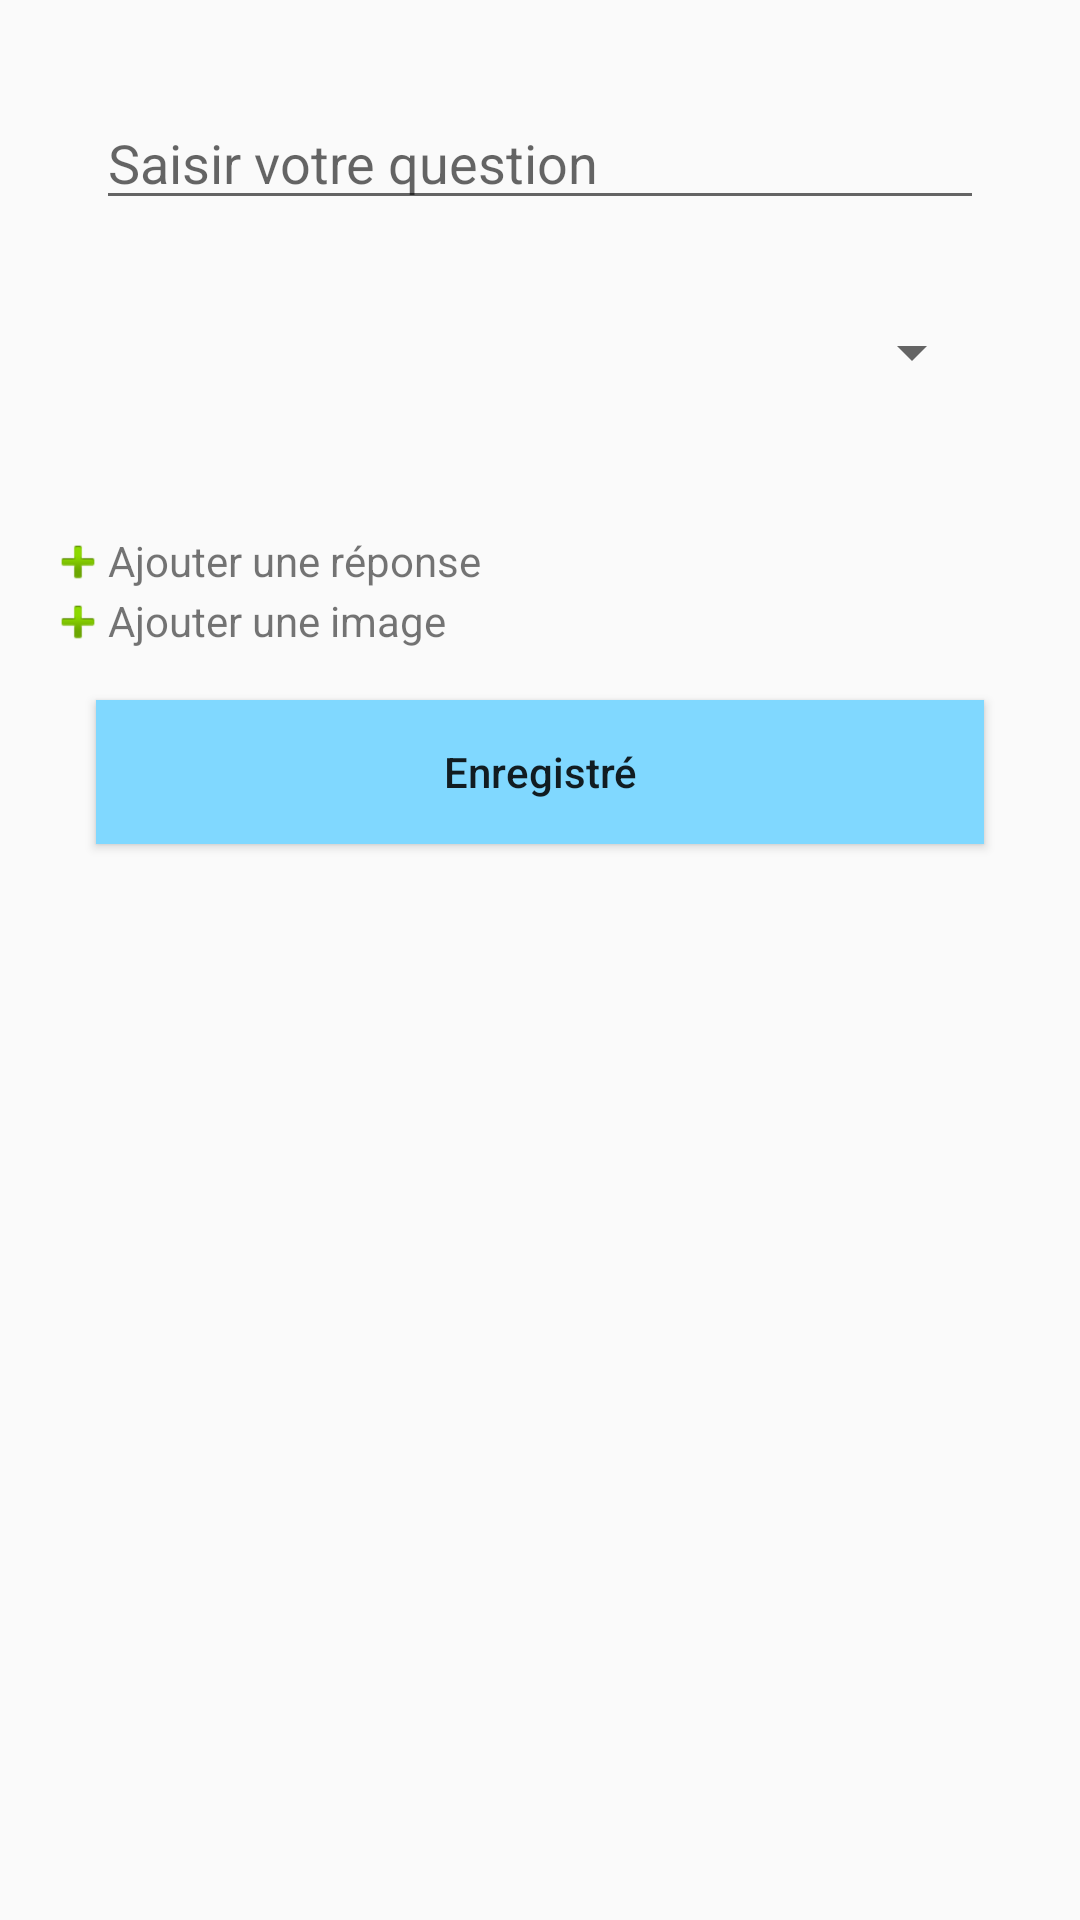

Where icons sit on this 1080 × 1920 app screen, as [x1=x1, y1=y1, x2=x2, y2=y2]:
add: [x1=61, y1=545, x2=95, y2=579], [x1=61, y1=605, x2=95, y2=639]
